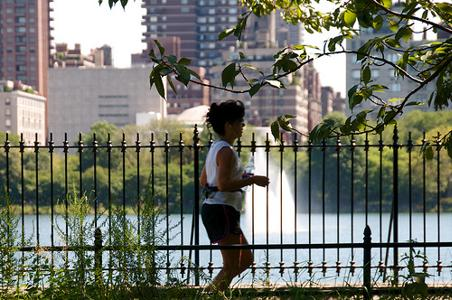person: (200, 100, 272, 299)
